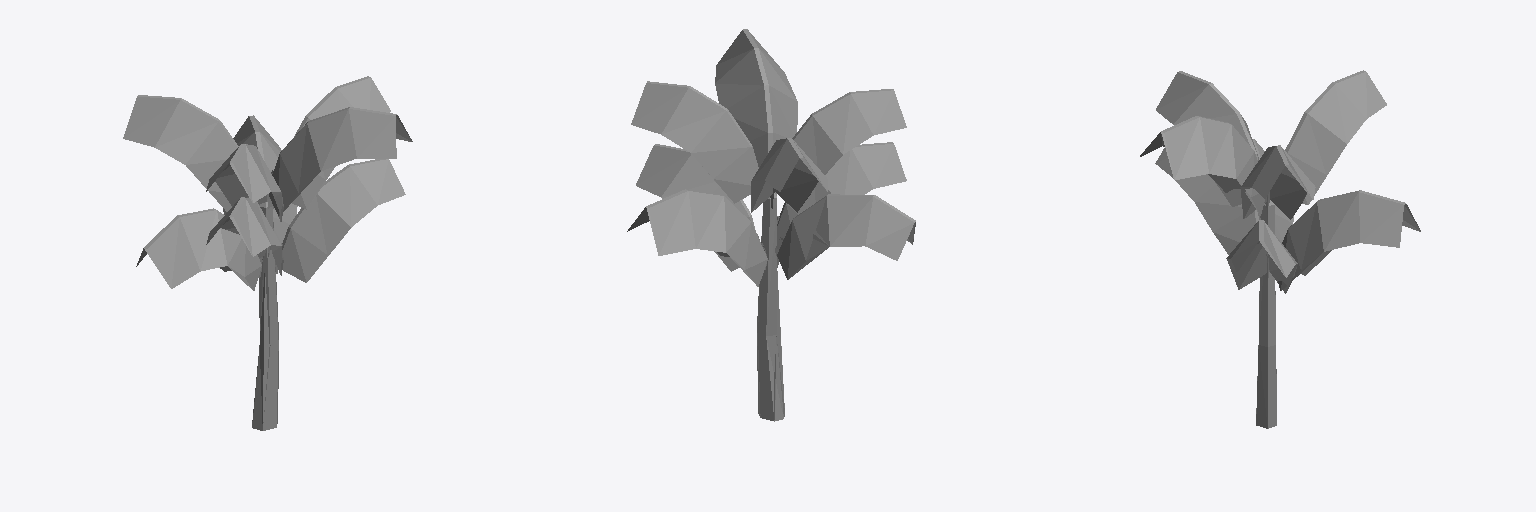
File: Banana01_blend.obj
3 renders of one model, left to right at view 1: azimuth 30°, elevation 25°; view 2: azimuth 150°, elevation 25°; view 3: azimuth 270°, elevation 25°, orthographic.
Parts seen in each view (by area): view 1: Banana256, Banana128; view 2: Banana256, Banana128; view 3: Banana256, Banana128.
Part boxes in pixels (x1,y1,x2,y2): Banana256: (123, 76, 411, 430); Banana128: (124, 78, 412, 423); Banana256: (631, 29, 915, 421); Banana128: (627, 49, 914, 420); Banana256: (1155, 70, 1419, 428); Banana128: (1140, 72, 1420, 293).
Bounding box in the file's own units: 4.53 × 5.53 × 4.3.